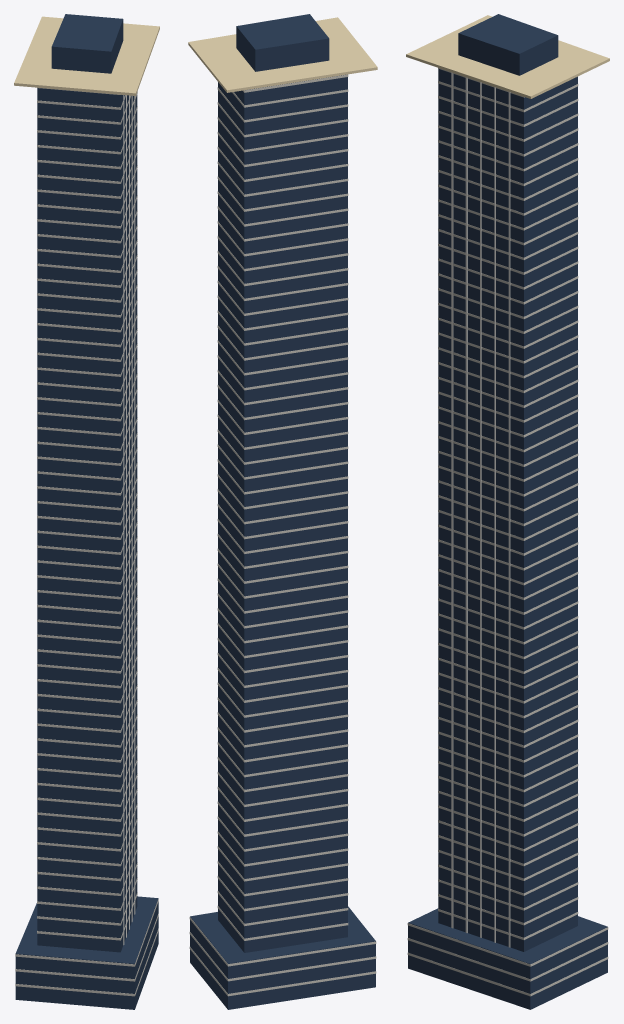
File: millenium-tower.glb
3 views of the same model, side by side, from view 1: azimuth 30°, elevation 25°; view 2: azimuth 150°, elevation 25°; view 3: azimuth 270°, elevation 25° (orthographic).
Parts seen in each view (by area): view 1: B_203296254_millenium-tower, B_203296254_millenium-tower_gold, mullion, mullion.004, mullion.003, mullion.001, mullion.002, band, band.001, band.002; view 2: B_203296254_millenium-tower, B_203296254_millenium-tower_gold, band.002, band, band.001; view 3: B_203296254_millenium-tower, B_203296254_millenium-tower_gold, mullion.001, mullion.004, mullion, mullion.002, mullion.003, band.002, band.001, band.
Part boxes in pixels (left/top/right/bottom): B_203296254_millenium-tower: left=15, top=14, right=158, bottom=1009; B_203296254_millenium-tower_gold: left=14, top=16, right=159, bottom=95; mullion: left=123, top=95, right=124, bottom=945; mullion.004: left=134, top=96, right=135, bottom=914; mullion.003: left=131, top=95, right=132, bottom=921; mullion.001: left=126, top=95, right=126, bottom=937; mullion.002: left=129, top=95, right=129, bottom=929; band: left=15, top=928, right=158, bottom=996; band.001: left=15, top=914, right=158, bottom=981; band.002: left=15, top=899, right=158, bottom=966; B_203296254_millenium-tower: left=190, top=14, right=375, bottom=1009; B_203296254_millenium-tower_gold: left=188, top=17, right=377, bottom=92; band.002: left=189, top=917, right=376, bottom=966; band: left=189, top=947, right=376, bottom=996; band.001: left=189, top=932, right=376, bottom=981; B_203296254_millenium-tower: left=408, top=14, right=607, bottom=1009; B_203296254_millenium-tower_gold: left=406, top=15, right=609, bottom=98; mullion.001: left=465, top=77, right=467, bottom=932; mullion.004: left=508, top=92, right=510, bottom=947; mullion: left=451, top=72, right=453, bottom=928; mullion.002: left=480, top=82, right=481, bottom=937; mullion.003: left=494, top=87, right=495, bottom=942; band.002: left=407, top=923, right=608, bottom=966; band.001: left=407, top=938, right=608, bottom=981; band: left=407, top=952, right=608, bottom=996.
Bounding box in the file's own units: 53.15 × 285 × 56.21.
